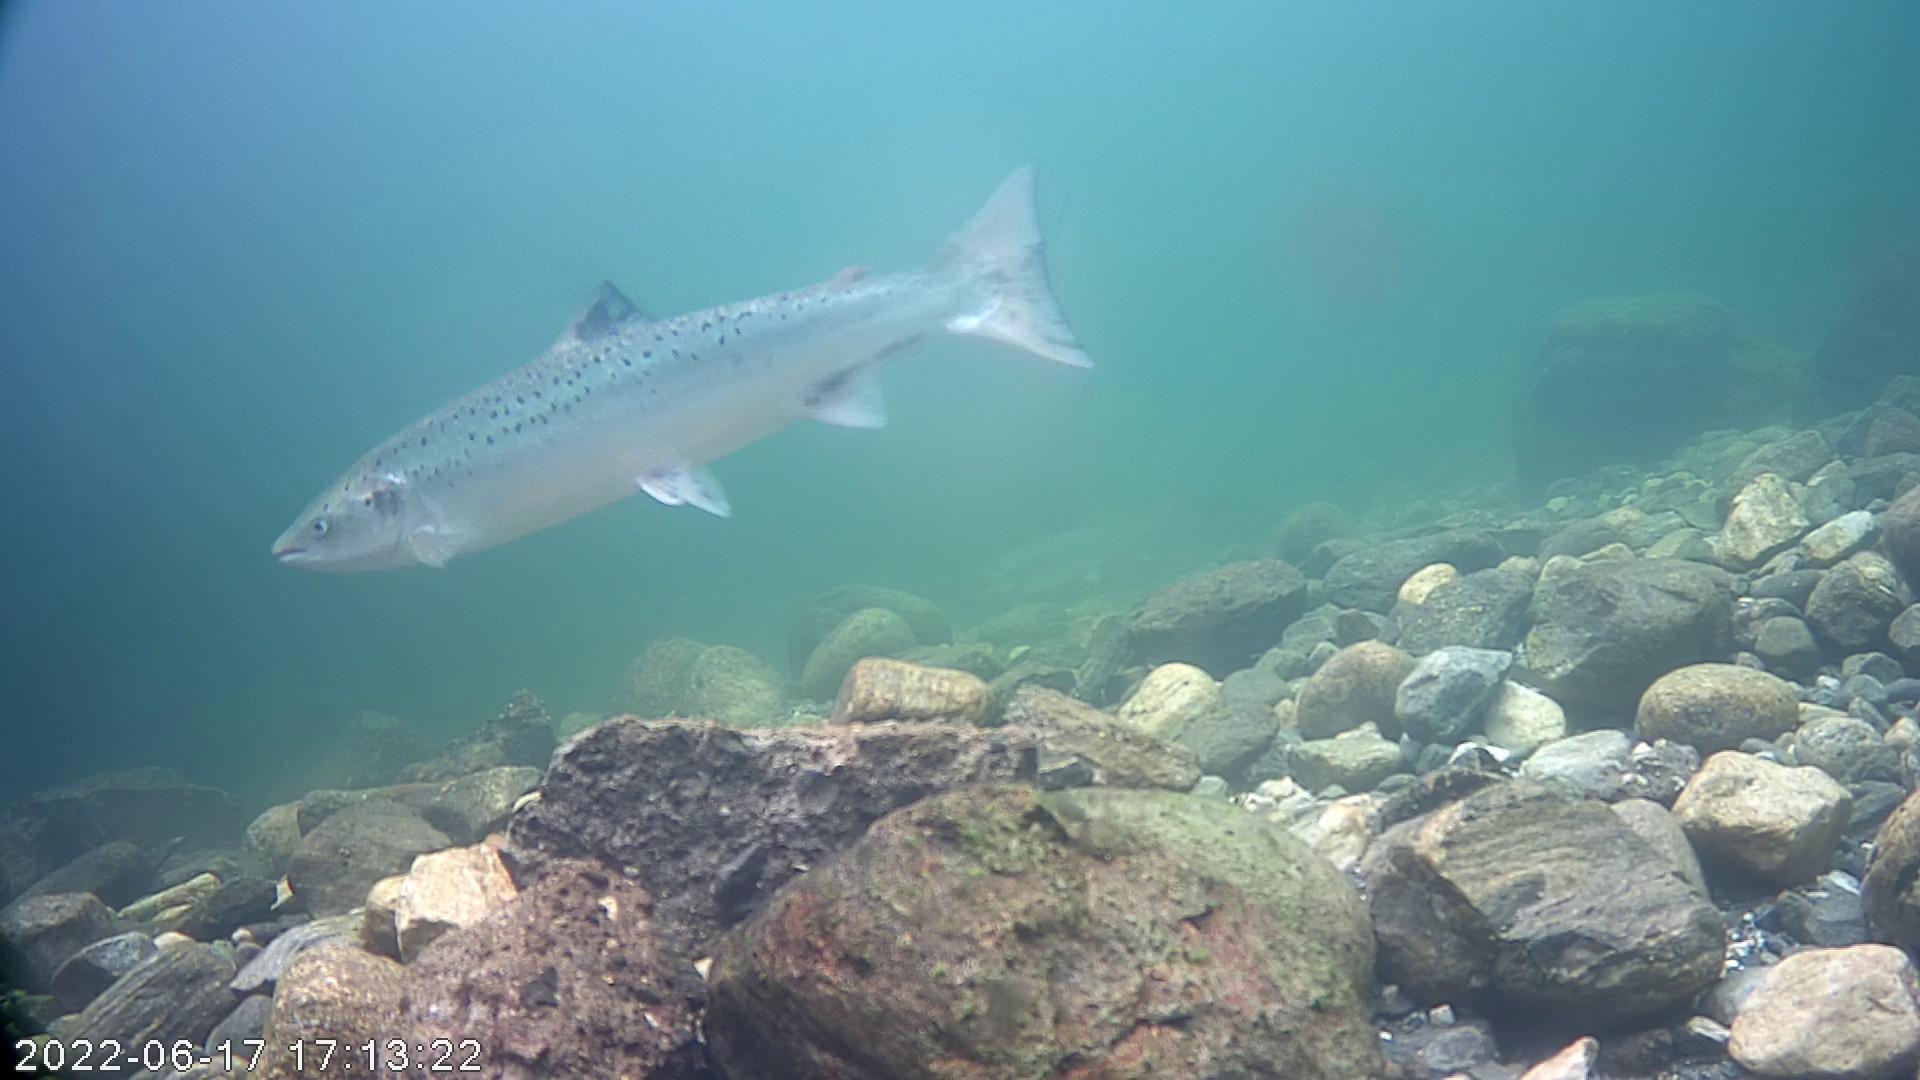salmon: (266, 157, 1101, 578)
